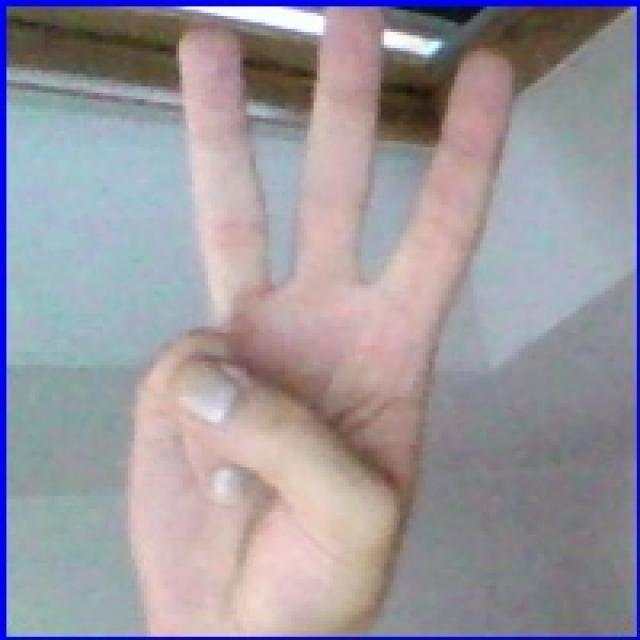Letra-W: (108, 8, 552, 625)
